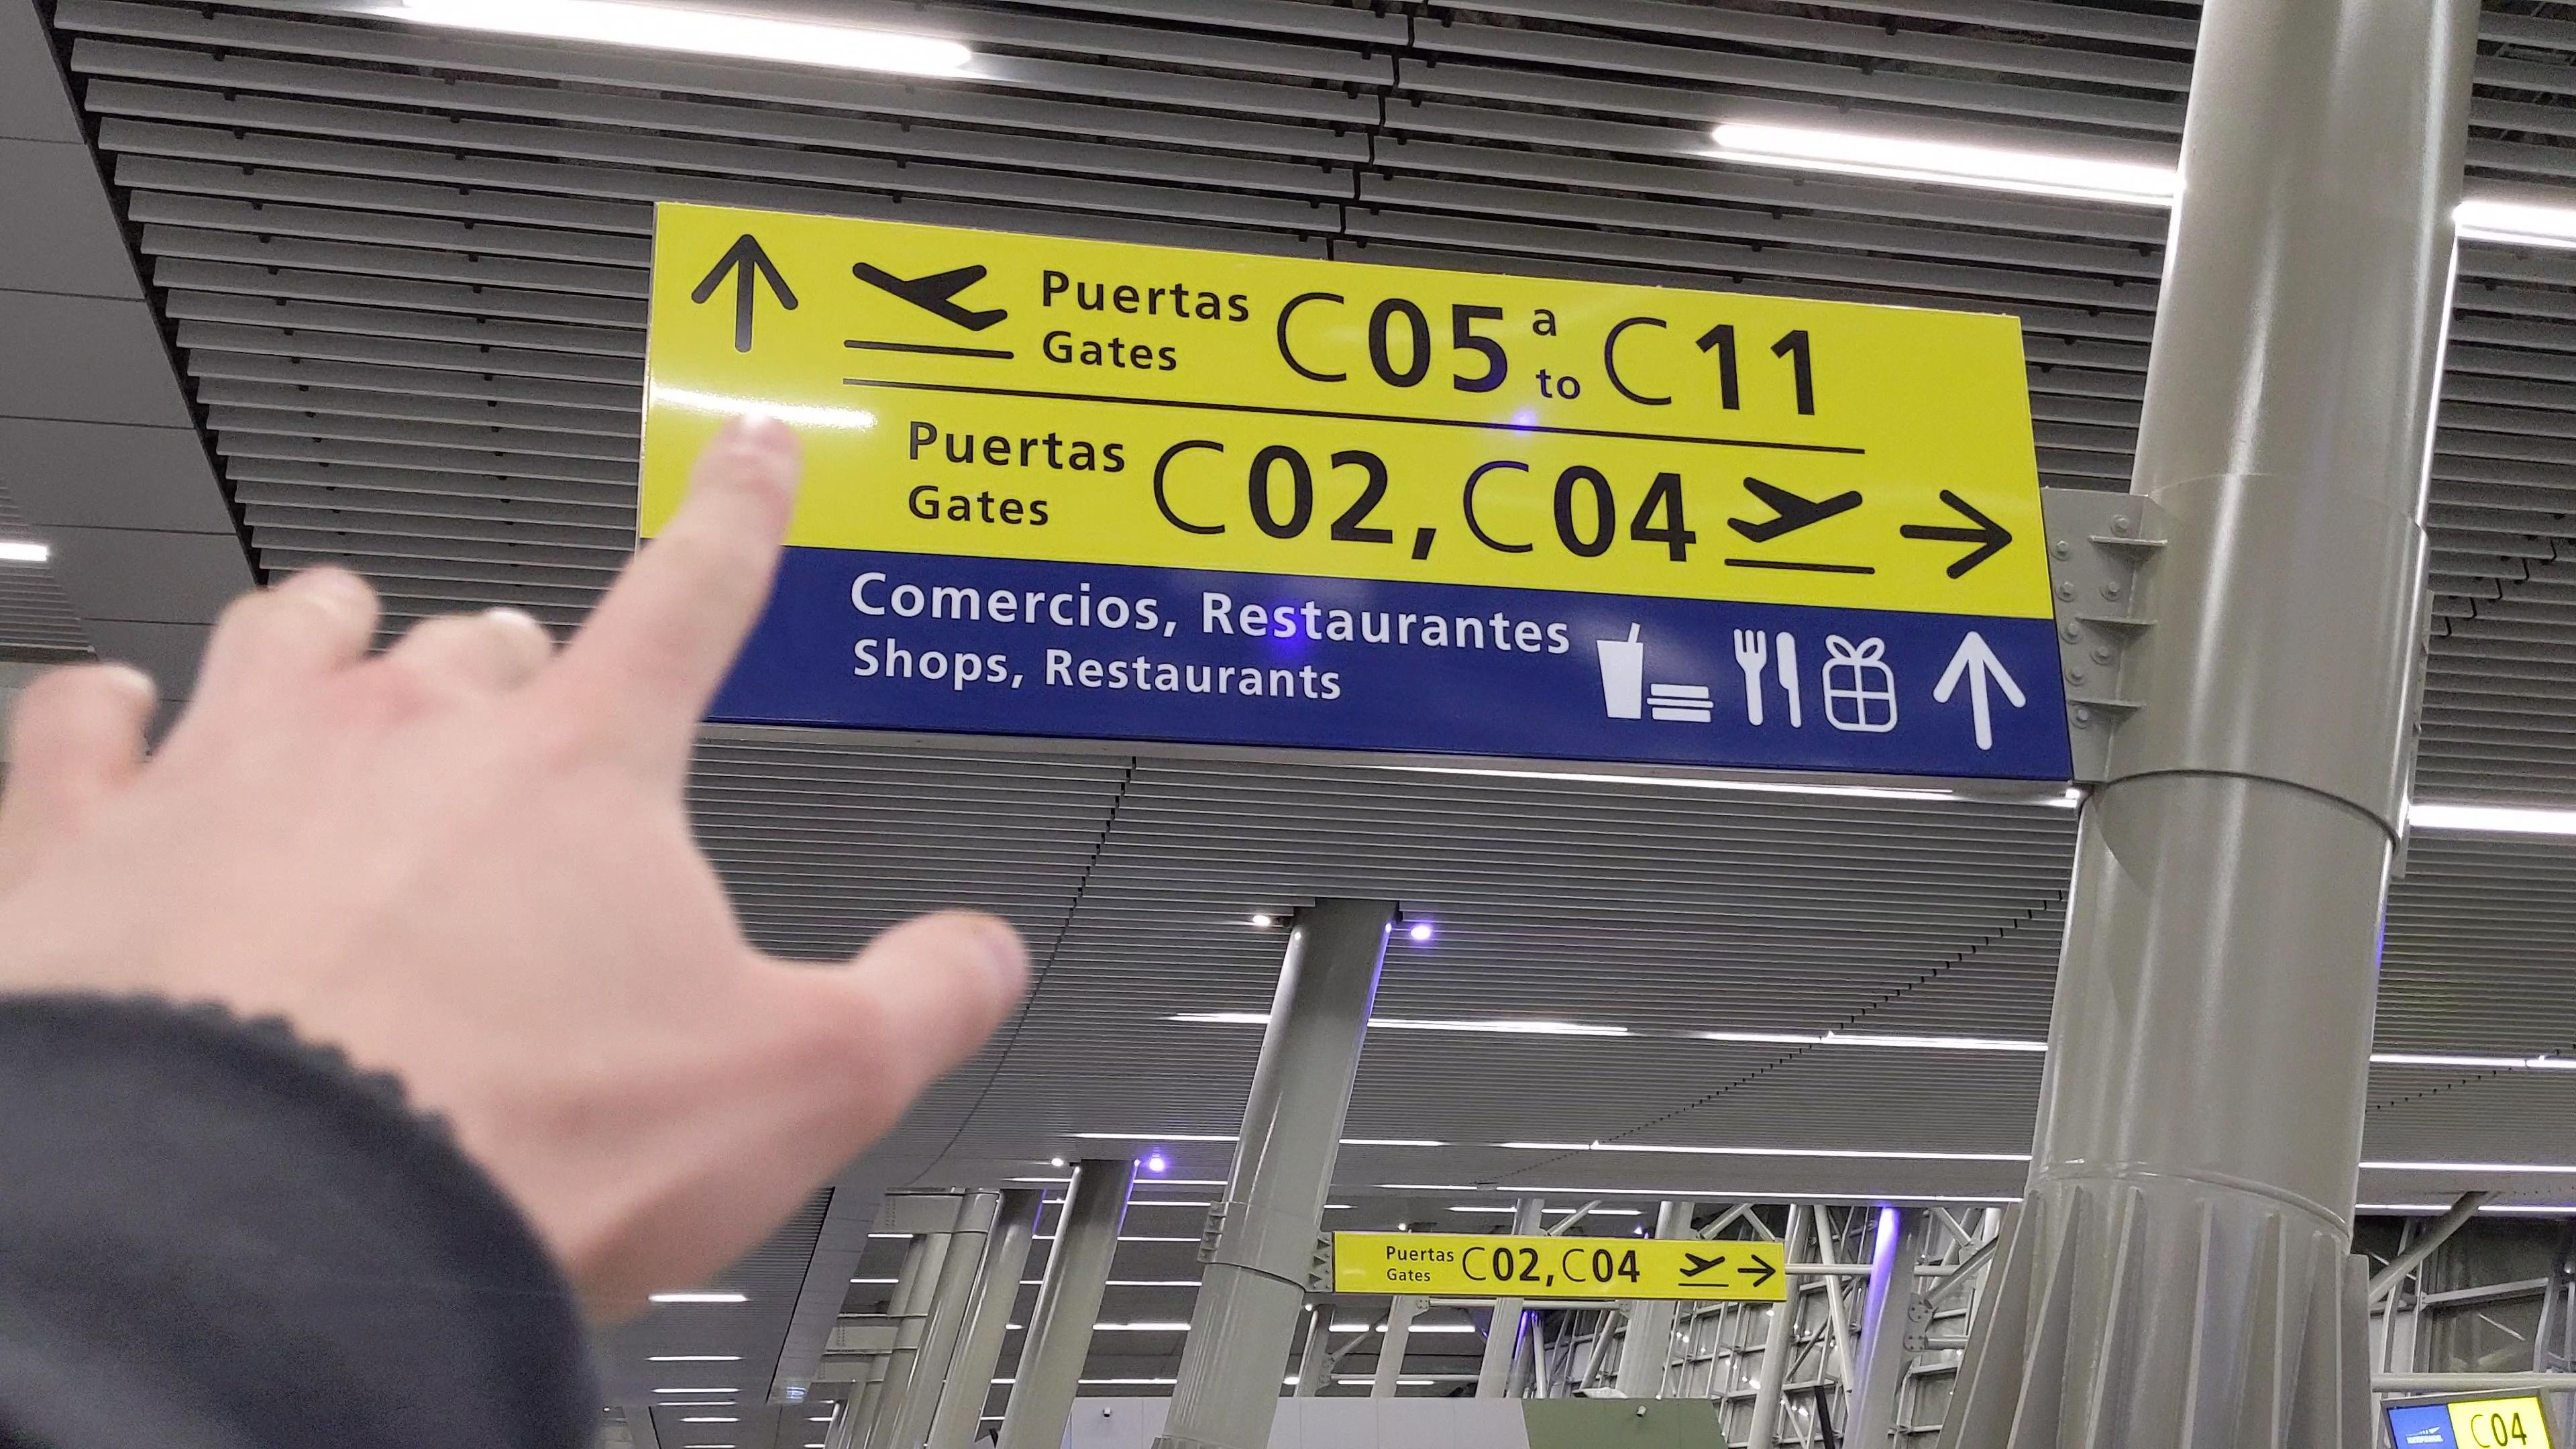airplane symbol: (847, 258, 1010, 338), (1723, 476, 1870, 547), (1679, 1251, 1727, 1277)
restaurants: (1730, 621, 1806, 736)
right arrow: (1737, 1253, 1778, 1288)
thin right arrow: (1897, 485, 2017, 586)
thin up arrow: (688, 230, 798, 354), (1927, 630, 2033, 754)
